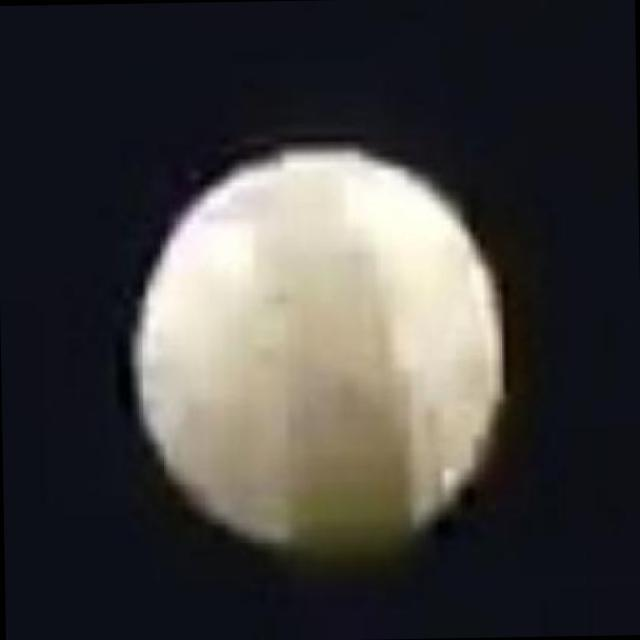-: (136, 139, 511, 550)
